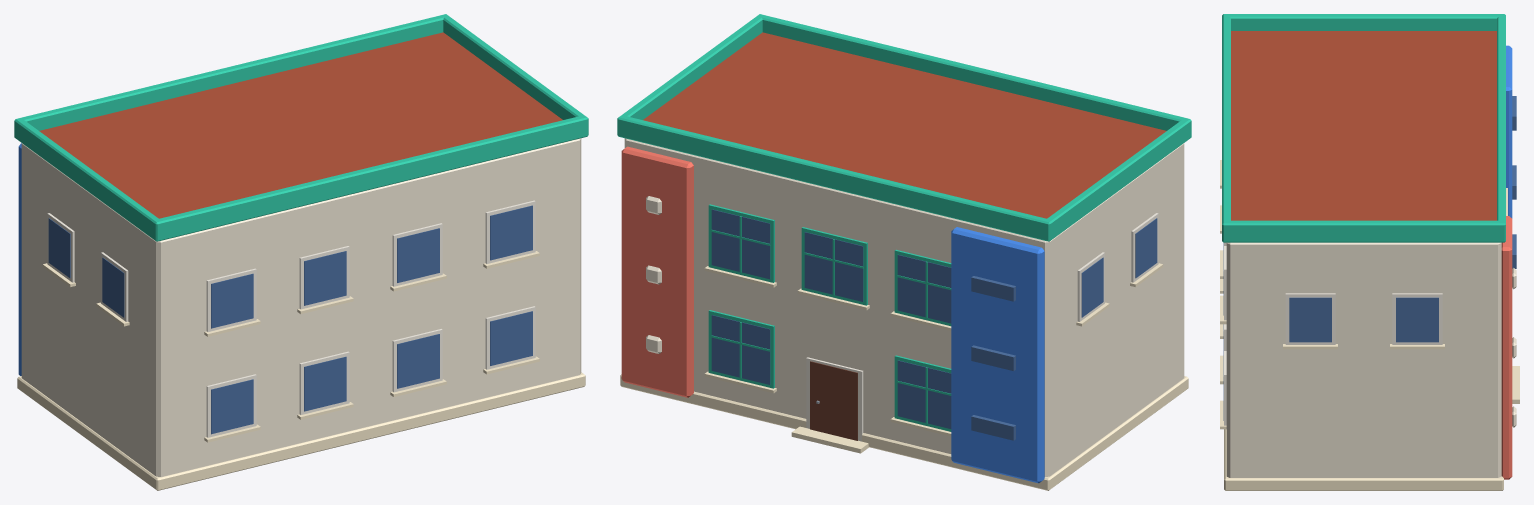
Rendered from bld_d2_c.glb.
3 renders of one model, left to right at view 1: azimuth 30°, elevation 25°; view 2: azimuth 150°, elevation 25°; view 3: azimuth 270°, elevation 25°, orthographic.
Parts seen in each view (by area): view 1: bld_d2_c; view 2: bld_d2_c; view 3: bld_d2_c.
Part boxes in pixels (x1,y1,x2,y2): bld_d2_c: [14, 14, 588, 490]; bld_d2_c: [617, 14, 1191, 490]; bld_d2_c: [1220, 14, 1519, 490].
Bounding box in the file's own units: 16.42 × 9.78 × 9.81.
